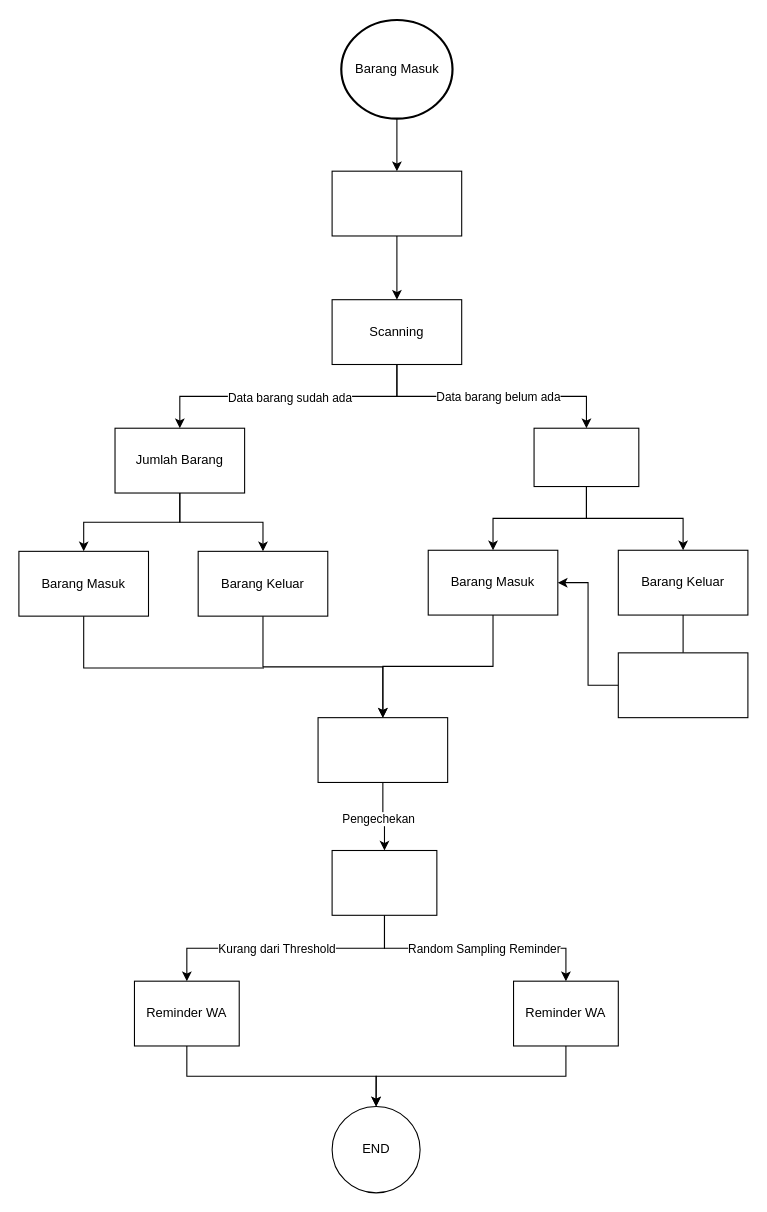
Some shapes in this 767 by 1212 pixel diagram are drawn without their labels. The shapes that lost their labels are listed below. From the top down, each one's centre as x and y in pixels, then its label:
At pixel 396 203: "Tekan Tombol Scanner".
At pixel 586 457: "1. Nama Barang 2. Kategori 3. Jumlah".
At pixel 682 685: "Peringatan barang belum ada".
At pixel 382 749: "Tercatat Database".
At pixel 384 882: "Kondisi Stock".
